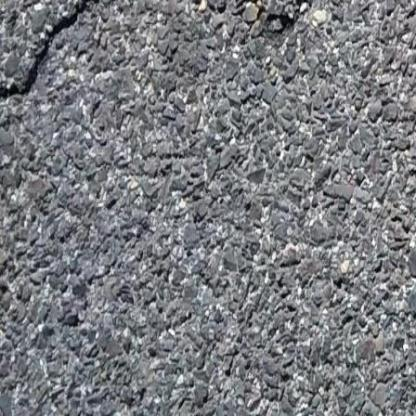Cracks: (0, 1, 110, 110)
